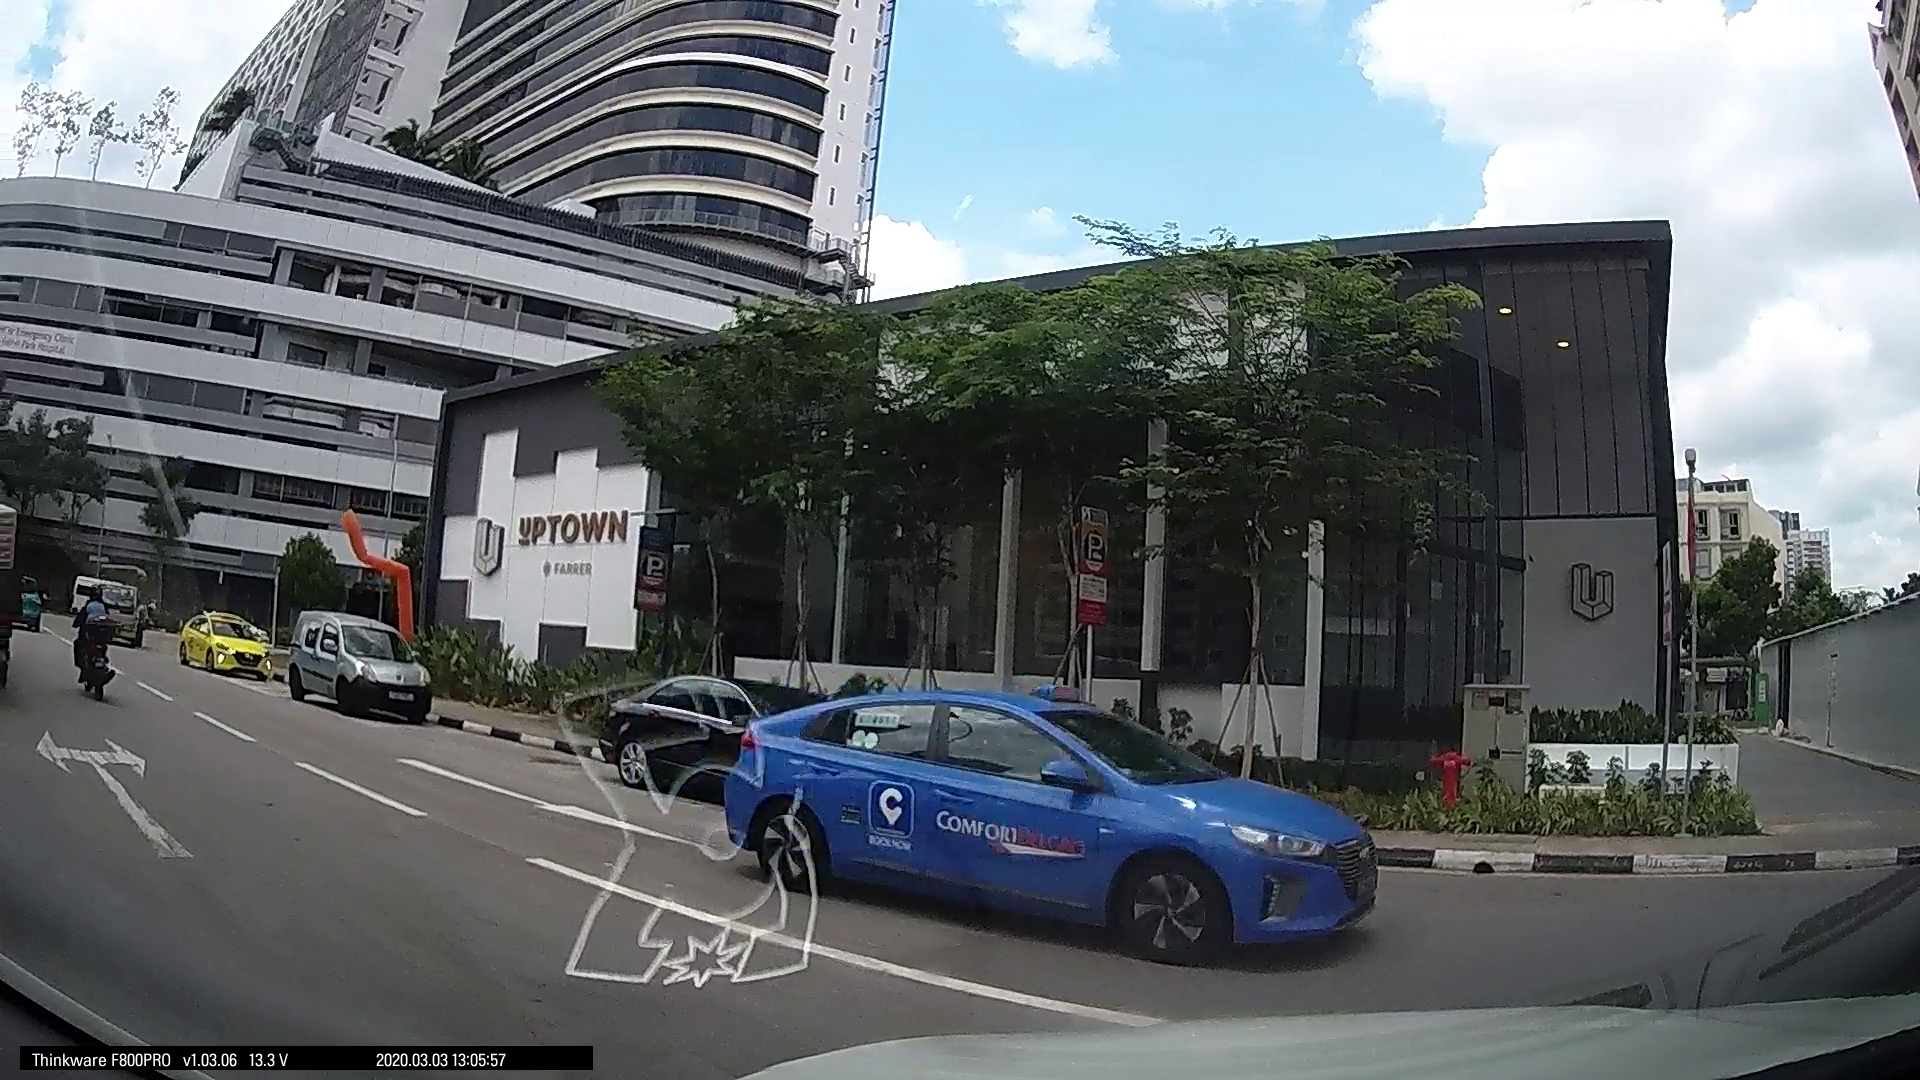Heavy Vehicle: (47, 444, 810, 926), (833, 564, 938, 752), (1200, 637, 1269, 708)
Light Vehicle: (1419, 682, 1578, 783), (1360, 670, 1448, 752)
